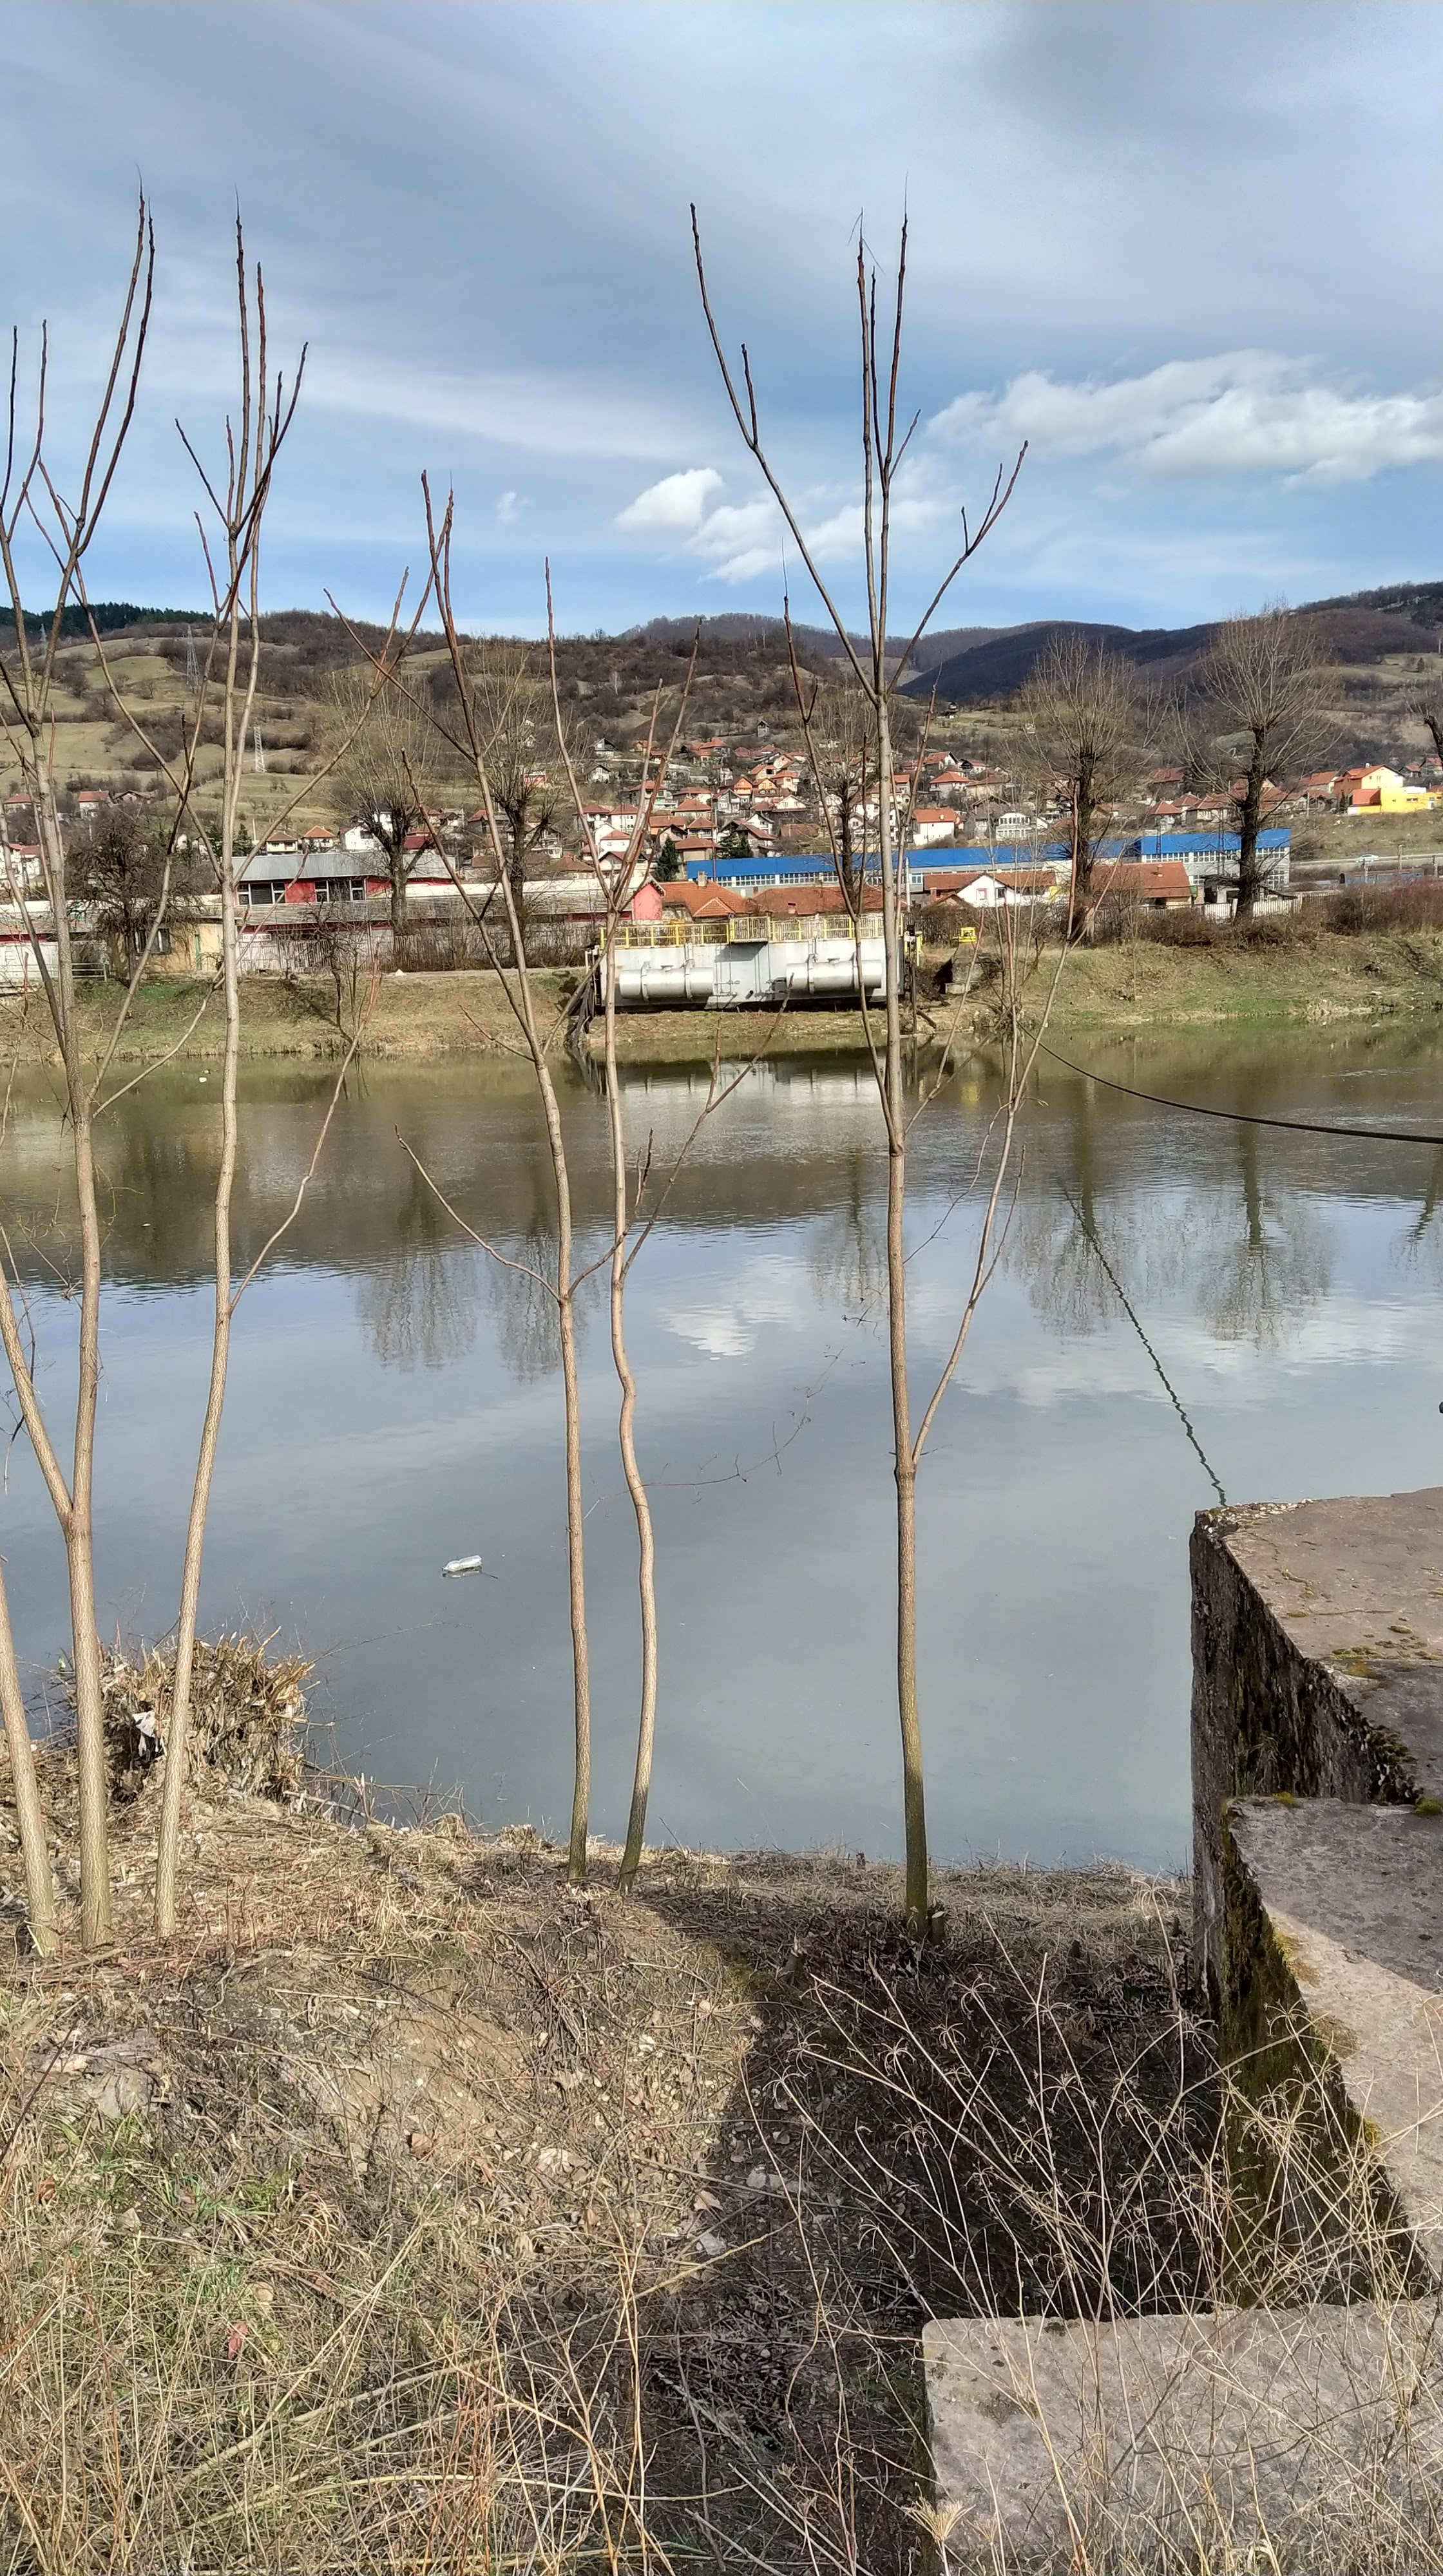Plastic Bottle: (441, 1555, 482, 1571), (198, 1077, 207, 1083)
